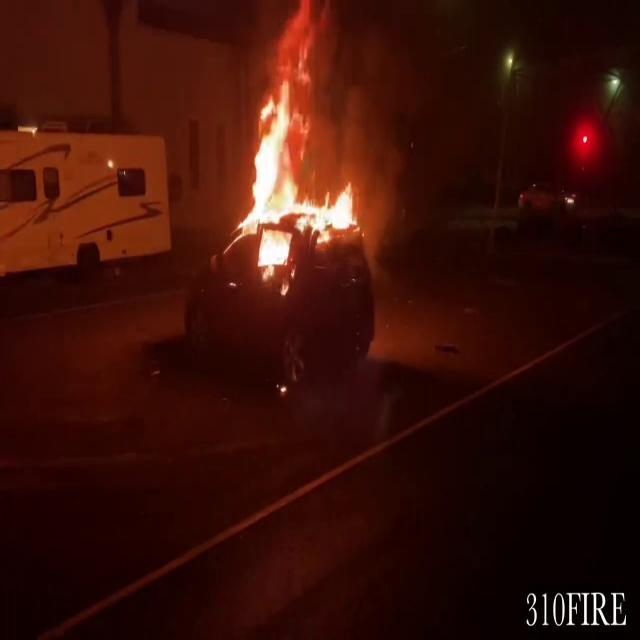Fire: (228, 17, 364, 266)
